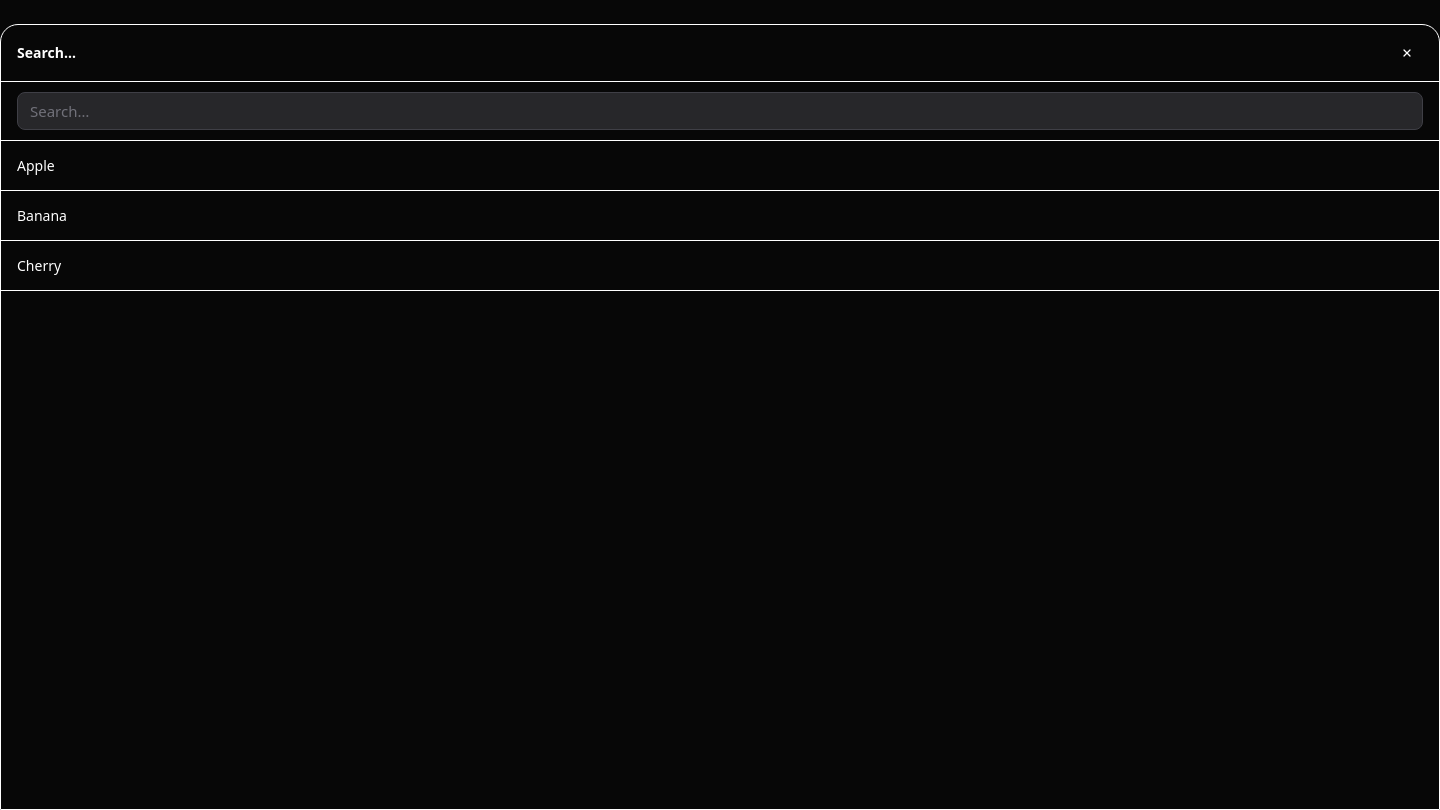
MobileSelectSheet › shows no-results message when search matches nothing
The width and height of the screenshot is (1440, 810).
Type "xyz" into the field.
click(720, 111); type("xyz")  # box top-left (17, 92), bottom-right (1423, 130)
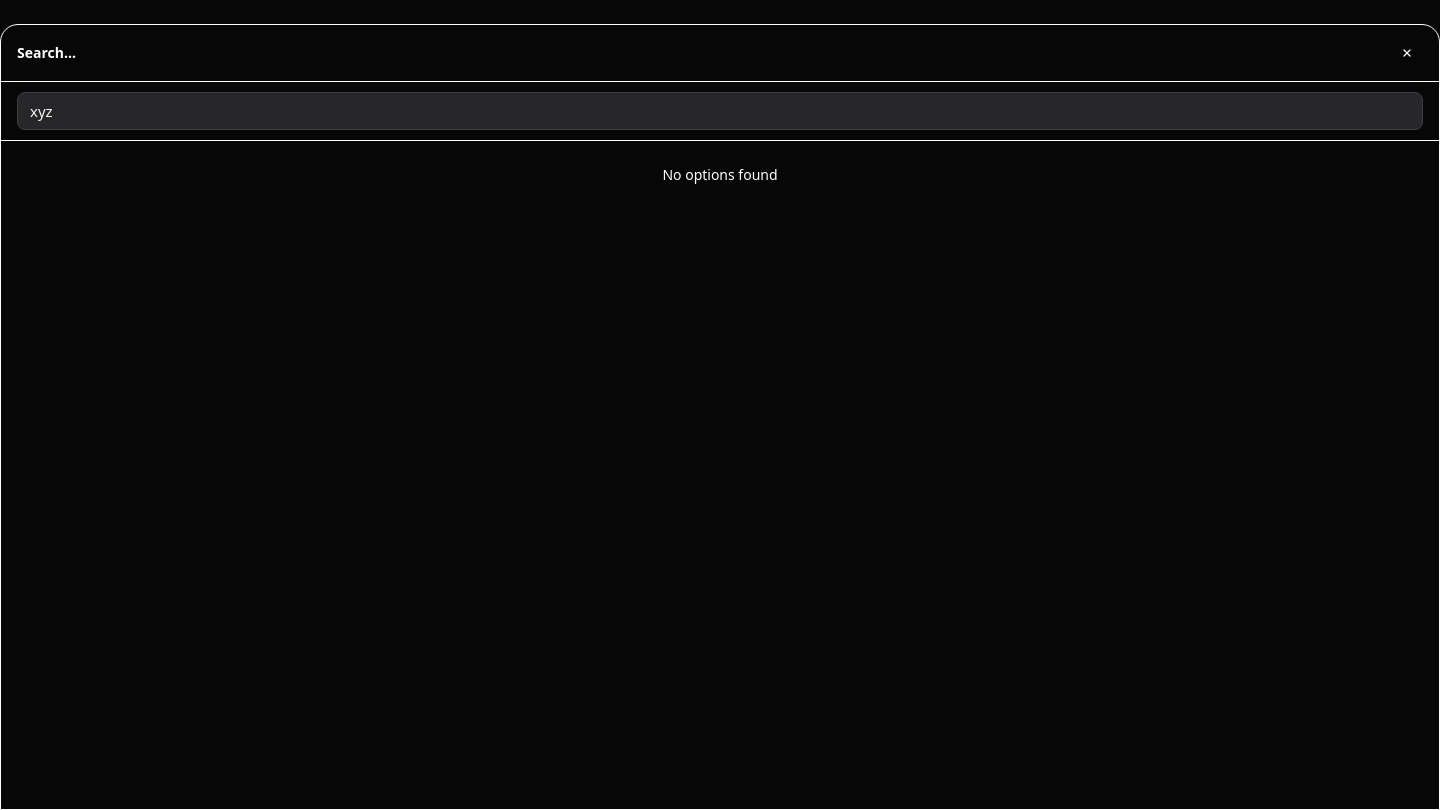
expect the text "No options found" is shown: met, box top-left (662, 165), bottom-right (778, 184)
